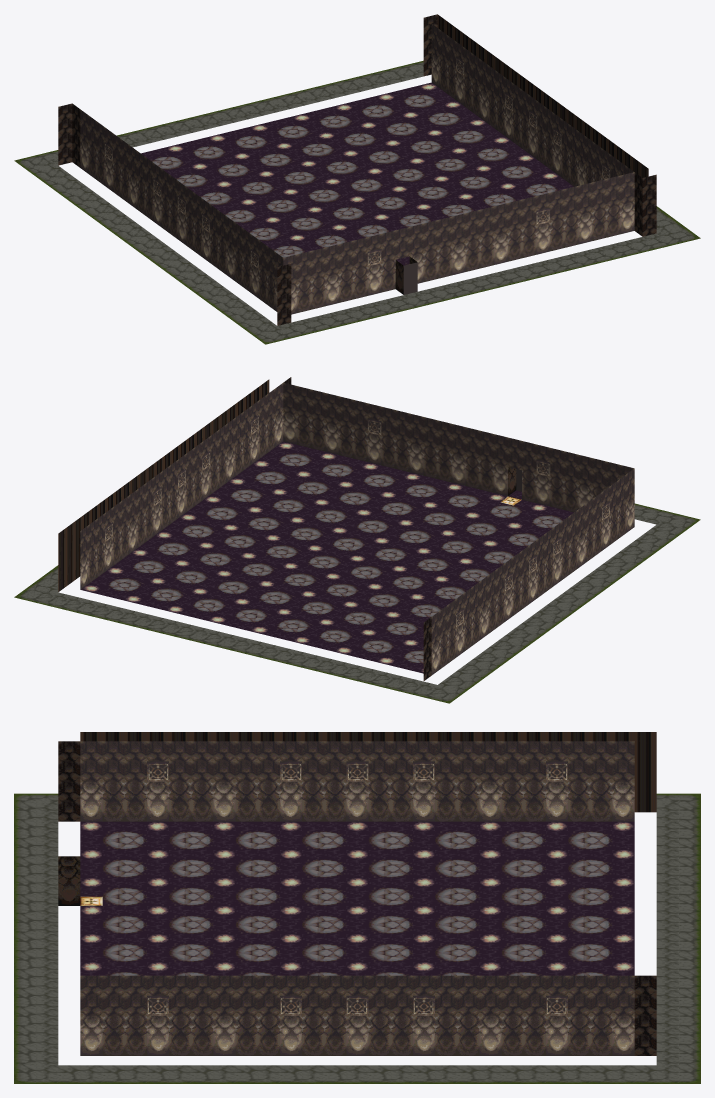
Rendered from catalog.obj.
3 views of the same model, one above another, from view 1: azimuth 30°, elevation 25°; view 2: azimuth 150°, elevation 25°; view 3: azimuth 270°, elevation 25° (orthographic). The views are drawn at different scales.
Visible parts, largest first — view 1: cell_9_9, cell_33_9, cell_25_9, cell_12_9, cell_14_9, cell_16_9, cell_22_9, cell_26_9, cell_30_9, cell_34_34, cell_10_9, cell_11_9 (+52 smaller); view 2: cell_9_9, cell_15_9, cell_20_9, cell_11_9, cell_14_9, cell_27_9, cell_13_9, cell_17_9, cell_12_9, cell_26_9, cell_28_9, cell_16_9 (+57 smaller); view 3: cell_33_9, cell_33_10, cell_33_11, cell_33_13, cell_33_14, cell_33_15, cell_33_16, cell_33_17, cell_33_19, cell_33_20, cell_33_21, cell_33_22 (+41 smaller).
Part boxes in pixels (<box>): cell_9_9: <box>620,166,656,236</box>; cell_33_9: <box>275,252,297,325</box>; cell_25_9: <box>395,227,417,294</box>; cell_12_9: <box>578,182,592,244</box>; cell_14_9: <box>550,189,564,251</box>; cell_16_9: <box>522,196,536,258</box>; cell_22_9: <box>437,216,451,278</box>; cell_26_9: <box>381,230,395,292</box>; cell_30_9: <box>325,244,339,306</box>; cell_34_34: <box>58,103,72,165</box>; cell_10_9: <box>606,175,620,237</box>; cell_11_9: <box>592,179,606,240</box>; cell_9_9: <box>275,377,297,450</box>; cell_15_9: <box>360,403,381,471</box>; cell_20_9: <box>430,420,451,488</box>; cell_11_9: <box>303,389,325,457</box>; cell_14_9: <box>345,400,367,467</box>; cell_27_9: <box>528,444,550,512</box>; cell_13_9: <box>332,396,353,464</box>; cell_17_9: <box>388,410,409,477</box>; cell_12_9: <box>318,393,339,460</box>; cell_26_9: <box>514,441,536,508</box>; cell_28_9: <box>542,448,564,515</box>; cell_16_9: <box>374,407,395,474</box>; cell_33_9: <box>58,741,102,830</box>; cell_33_10: <box>102,741,124,830</box>; cell_33_11: <box>124,741,146,830</box>; cell_33_13: <box>169,741,191,830</box>; cell_33_14: <box>191,741,213,830</box>; cell_33_15: <box>213,741,235,830</box>; cell_33_16: <box>235,741,257,830</box>; cell_33_17: <box>257,741,279,830</box>; cell_33_19: <box>302,741,324,830</box>; cell_33_20: <box>324,741,346,830</box>; cell_33_21: <box>346,741,368,830</box>; cell_33_22: <box>368,741,390,830</box>.
Size of the model in its own units: 0.4844 by 0.0625 by 0.4844.
Materials: 10 (10 with a texture image).
